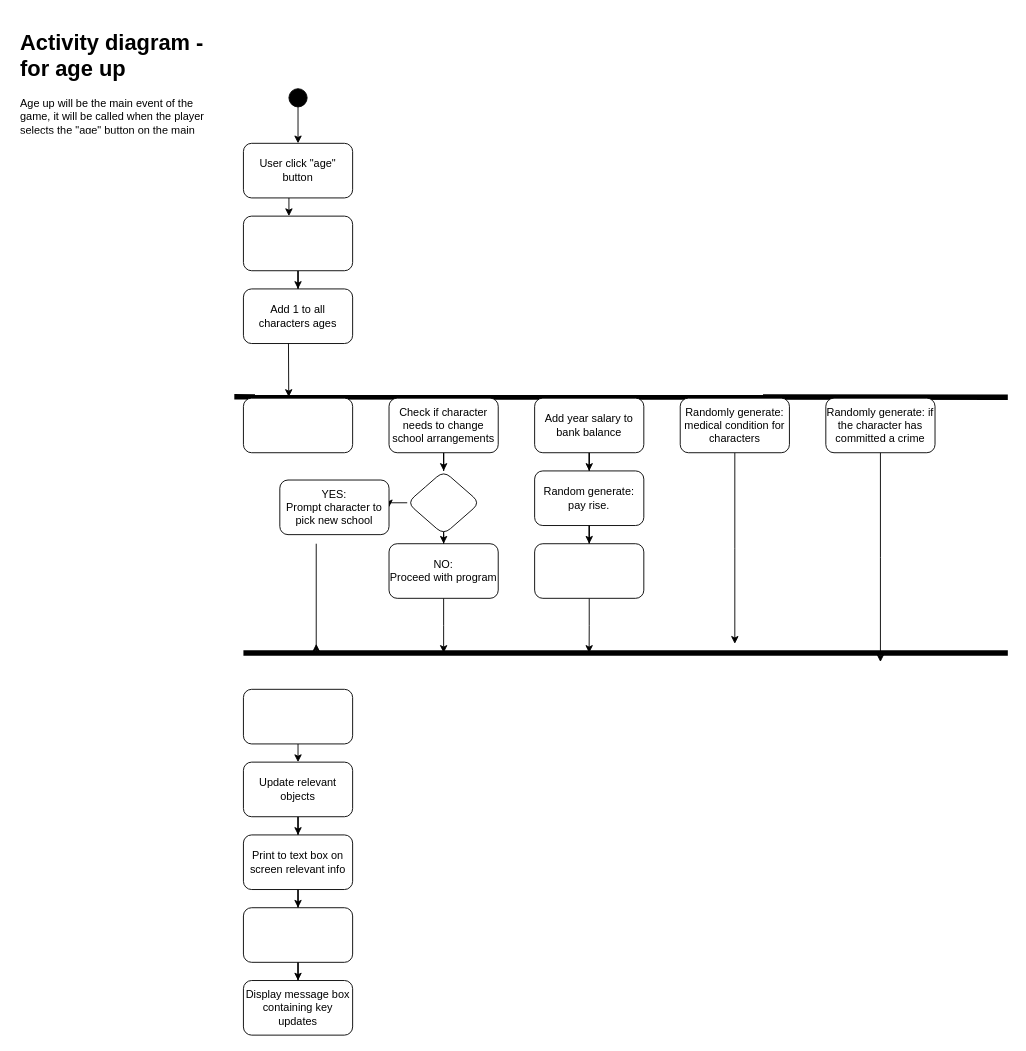
This 1026x1051 diagram has some shape labels left out. Here are the shapes that lost their labels. From the top down, the centre of each, then its label:
At point 298,243: "Increment year by 1".
At point 298,425: "Random generate: check if any characters die.".
At point 443,502: "If".
At point 589,570: "Subtract expenses from bank balance".
At point 298,716: "Re-calculate all scores".
At point 298,934: "Re-draw forms, to show updates".
